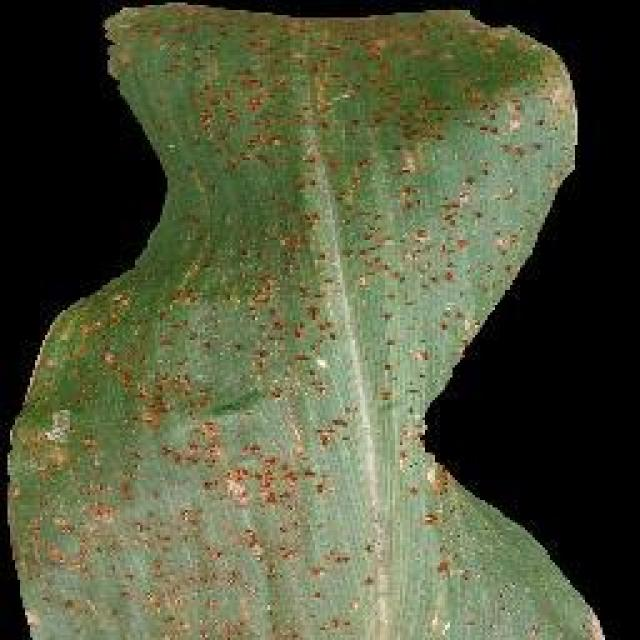Corn Common Rust: (154, 183, 598, 610)
